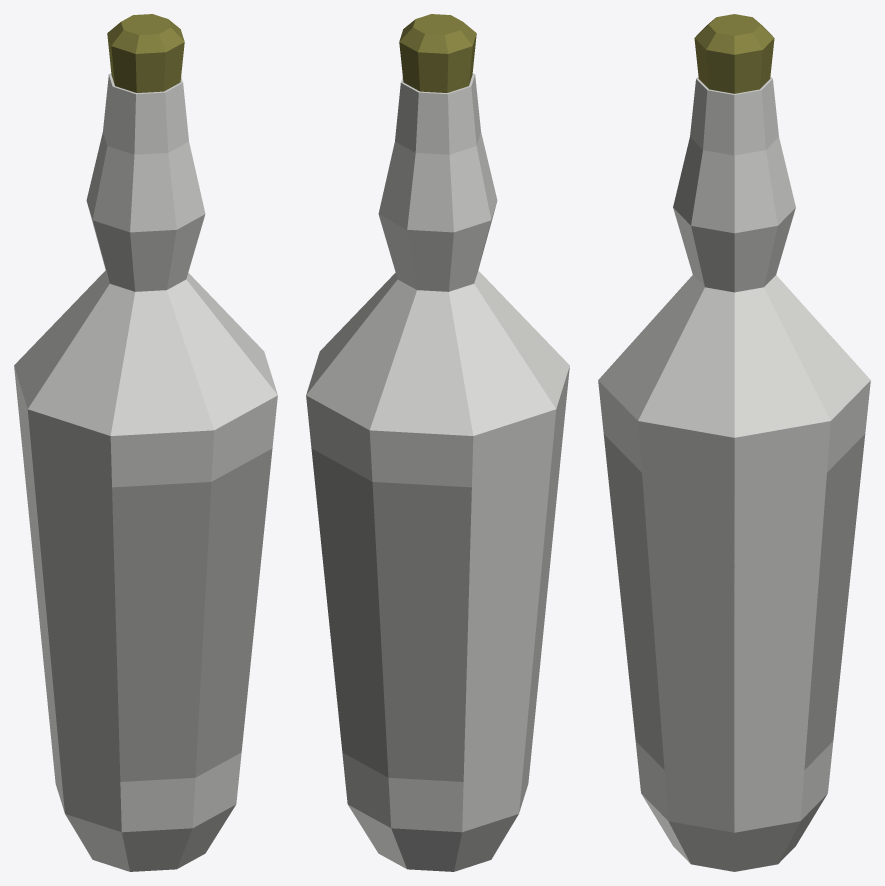
The model's file is Bottle_2_White.fbx.
3 views of the same model, side by side, from view 1: azimuth 30°, elevation 25°; view 2: azimuth 150°, elevation 25°; view 3: azimuth 270°, elevation 25° (orthographic).
Visible parts, largest first — view 1: Bottle_2_White_Part_1, Bottle_2_White_Part_2, Bottle_2_White_Part_3; view 2: Bottle_2_White_Part_1, Bottle_2_White_Part_2, Bottle_2_White_Part_3; view 3: Bottle_2_White_Part_1, Bottle_2_White_Part_2, Bottle_2_White_Part_3.
Boxes of the visible parts, x1=… form: Bottle_2_White_Part_1: x1=14, y1=73, x2=277, y2=871; Bottle_2_White_Part_2: x1=112, y1=448, x2=272, y2=781; Bottle_2_White_Part_3: x1=107, y1=14, x2=184, y2=92; Bottle_2_White_Part_1: x1=306, y1=73, x2=569, y2=871; Bottle_2_White_Part_2: x1=311, y1=448, x2=471, y2=781; Bottle_2_White_Part_3: x1=399, y1=14, x2=476, y2=92; Bottle_2_White_Part_1: x1=598, y1=76, x2=870, y2=871; Bottle_2_White_Part_2: x1=603, y1=434, x2=865, y2=769; Bottle_2_White_Part_3: x1=694, y1=14, x2=774, y2=93.
Size of the model in its own units: 12 by 39.85 by 12.
